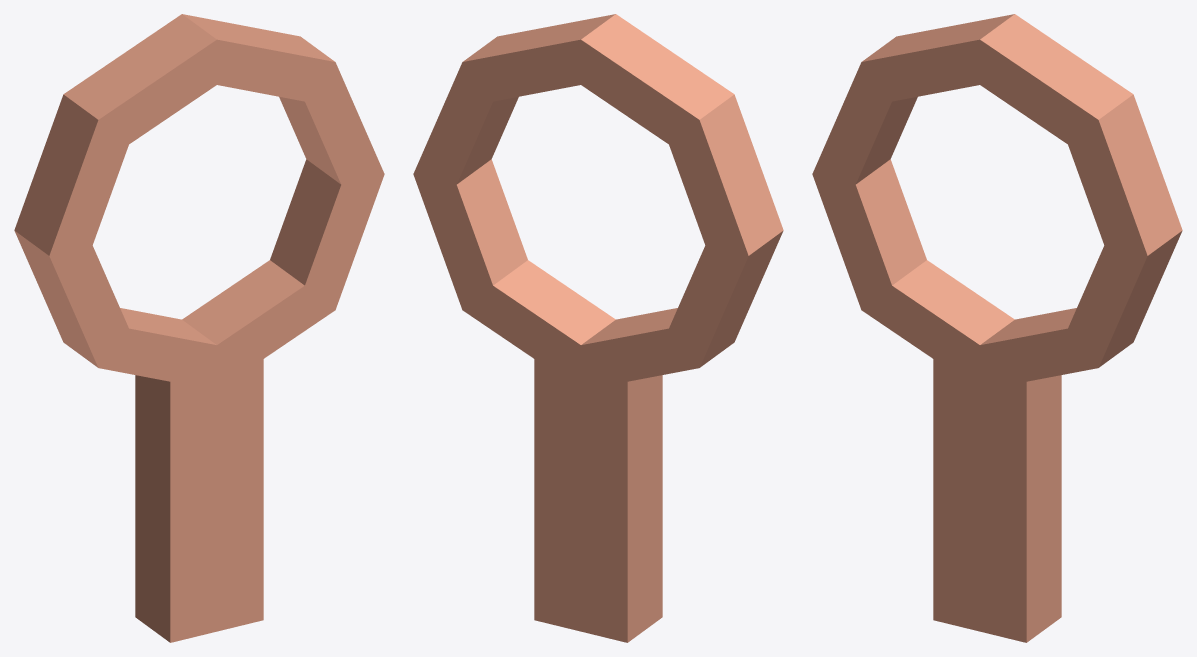
File: pipeStand.glb
3 renders of one model, left to right at view 1: azimuth 30°, elevation 25°; view 2: azimuth 150°, elevation 25°; view 3: azimuth 330°, elevation 25°, orthographic.
Parts seen in each view (by area): view 1: pipeStand; view 2: pipeStand; view 3: pipeStand.
Boxes of the visible parts, <box> form: pipeStand: <box>14,14,384,642</box>; pipeStand: <box>413,14,783,642</box>; pipeStand: <box>812,14,1182,642</box>.
Bounding box in the file's own units: 5.53 × 9.33 × 1.
